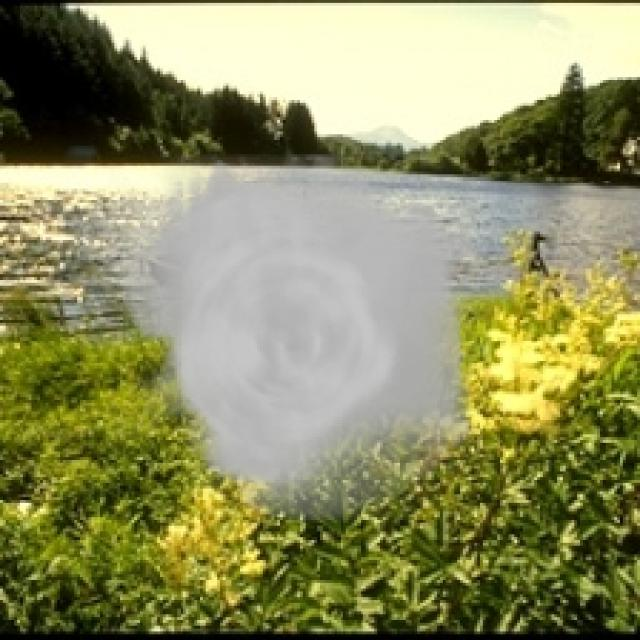smoke: (109, 154, 492, 523)
